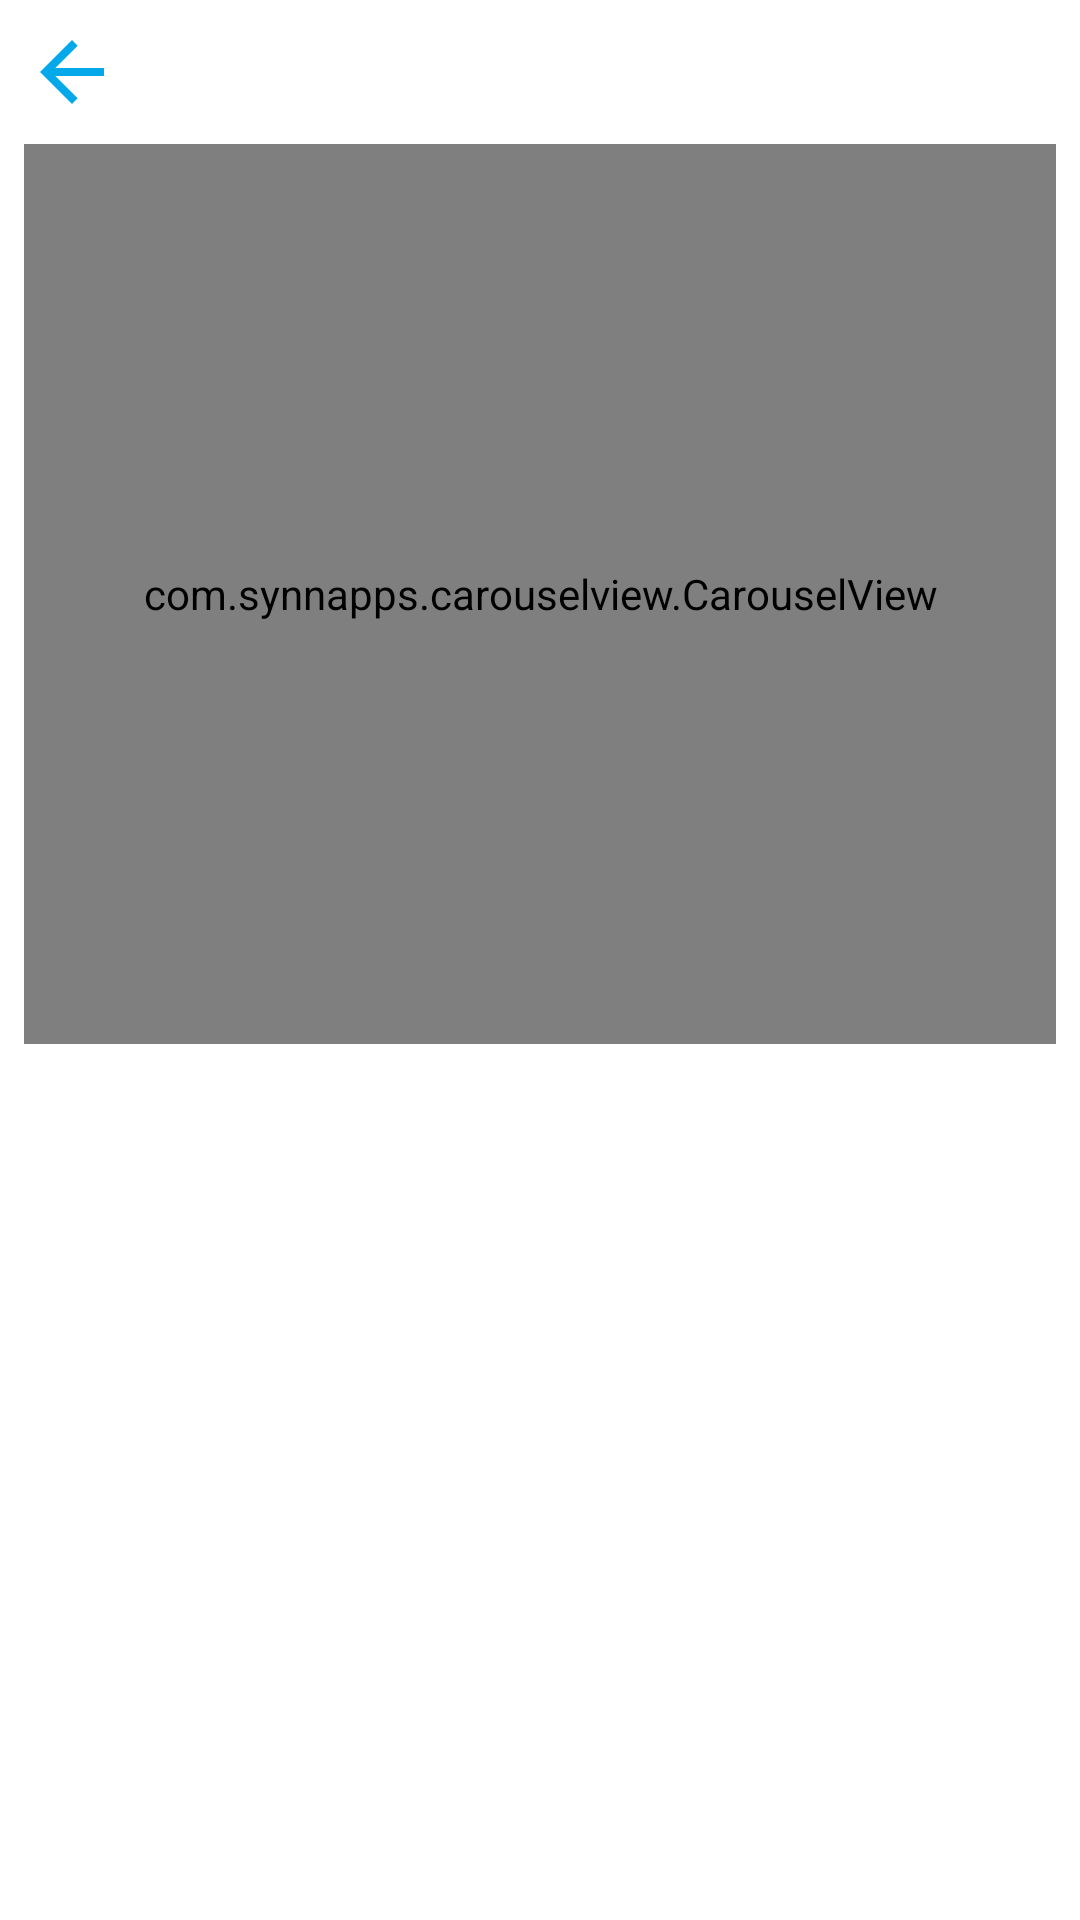

Icon click points for this 1080w x 1920h phone screenshot, format (x=x, y=y):
arrow back: (x=72, y=72)
